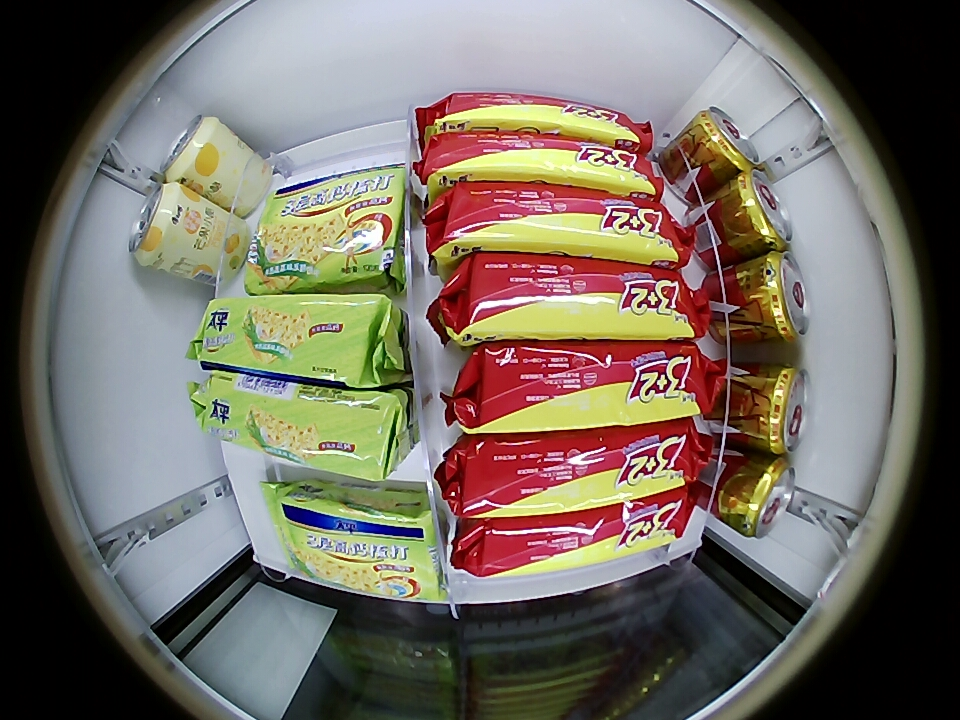3jia2: (467, 342, 706, 432), (459, 425, 694, 516), (457, 256, 699, 343), (440, 184, 684, 264), (460, 495, 688, 579), (425, 135, 661, 194), (421, 93, 648, 146)
dongpeng: (750, 251, 810, 342), (733, 456, 796, 539), (753, 364, 810, 454), (732, 170, 793, 251), (693, 107, 761, 173)
mangguoxiaolao: (128, 181, 189, 268), (160, 115, 224, 184)
taipingshuda: (198, 373, 406, 479), (250, 166, 407, 292), (275, 486, 444, 603), (196, 293, 395, 383)
